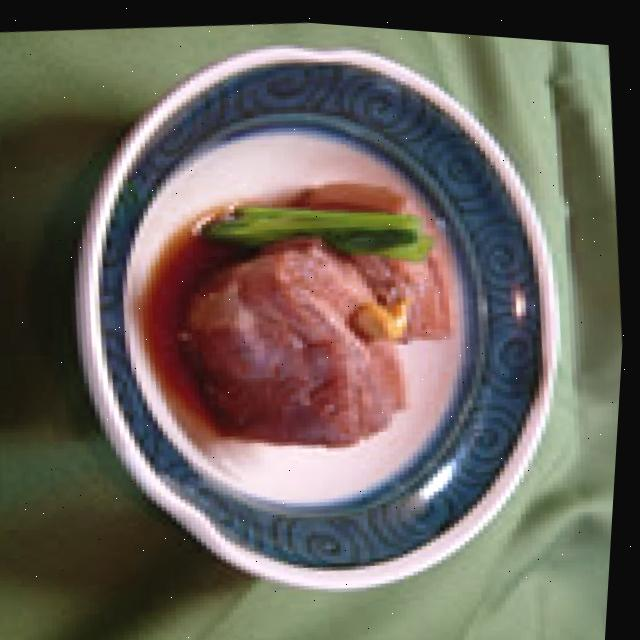猪肉菜式: (24, 3, 608, 630)
